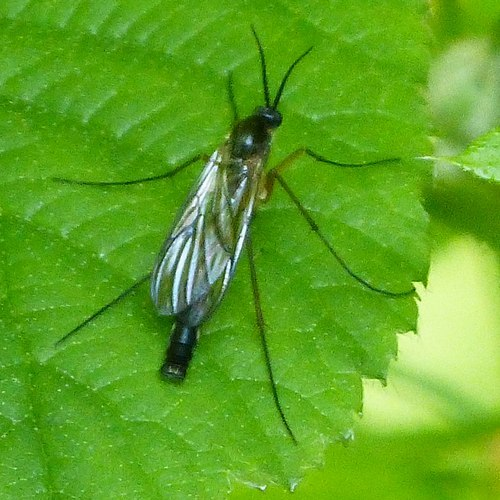Fruit fly: (102, 35, 357, 437)
